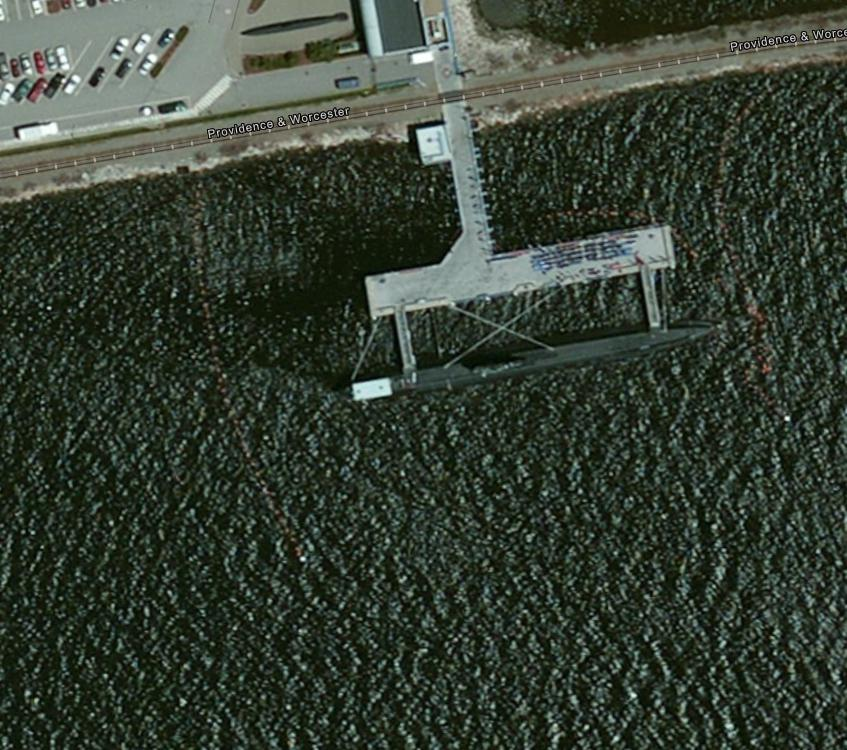submarine: (351, 314, 732, 412)
